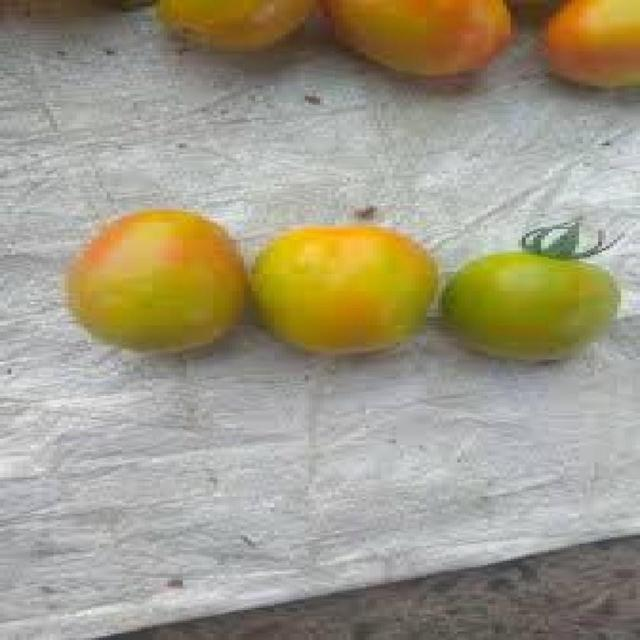Spotted wilt Virus Fruit: (63, 16, 395, 204)
